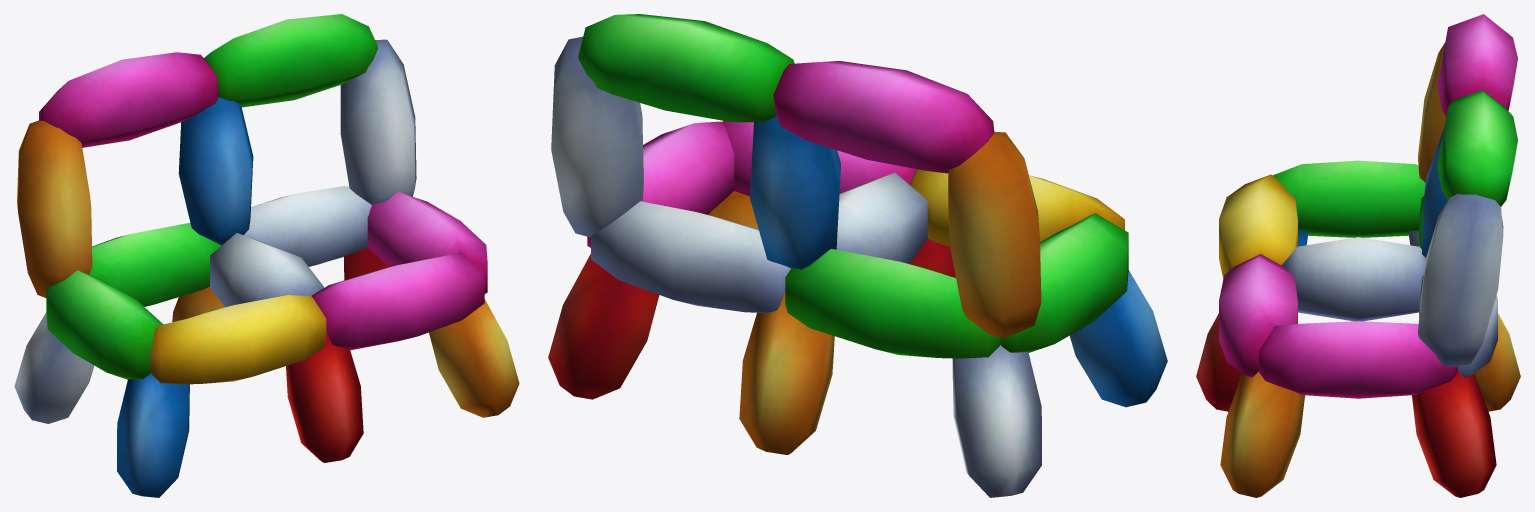
Rendered from int_bal_chairL.dae.
The picture shows the model from 3 angles, left to right: view 1: azimuth 30°, elevation 25°; view 2: azimuth 150°, elevation 25°; view 3: azimuth 270°, elevation 25°; orthographic projection. The views are drawn at different scales.
Parts seen in each view (by area): view 1: int_bal_chairL; view 2: int_bal_chairL; view 3: int_bal_chairL.
Part boxes in pixels (x1,y1,x2,y2): int_bal_chairL: (14, 14, 519, 497); int_bal_chairL: (548, 14, 1167, 497); int_bal_chairL: (1196, 14, 1520, 497).
Size of the model in its own units: 39.16 by 31.31 by 27.3.
1 material, 1 textured.
